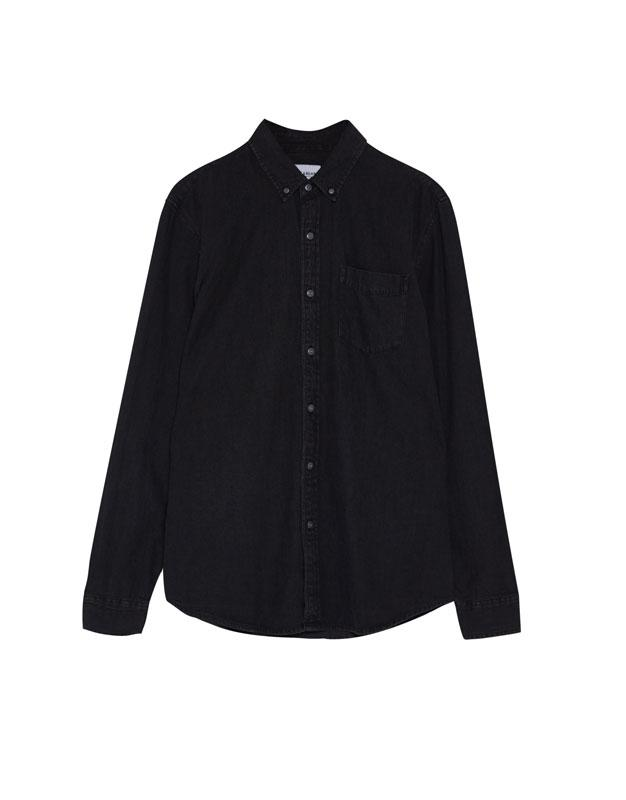teeshirt: (77, 117, 537, 662)
